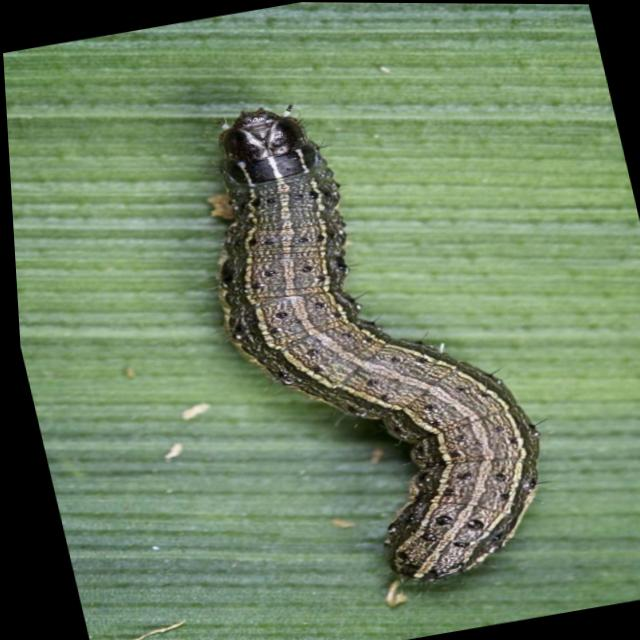Fall-Armyworm: (156, 69, 567, 626)
